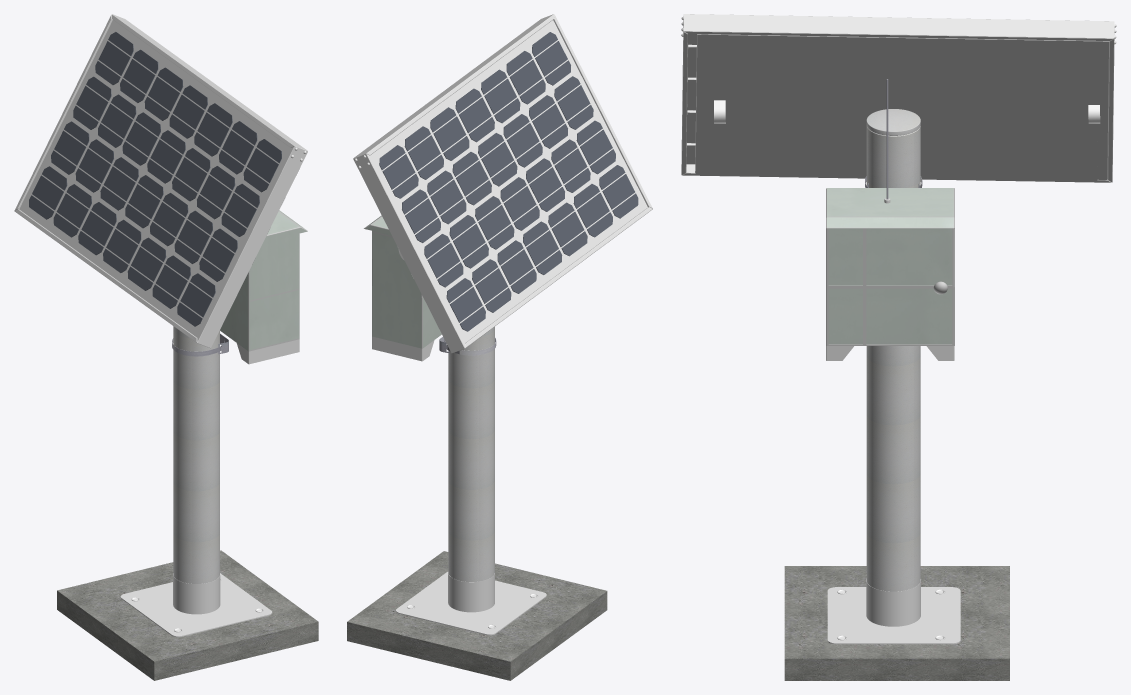
3 views of the same model, side by side, from view 1: azimuth 30°, elevation 25°; view 2: azimuth 150°, elevation 25°; view 3: azimuth 270°, elevation 25° (orthographic). The views are drawn at different scales.
Parts seen in each view (by area): view 1: archmodels74_009_040, archmodels74_009_039, Rectangle170, Circle023, archmodels74_009_038, Rectangle162, Rectangle171, Circle428, Rectangle163; view 2: archmodels74_009_040, archmodels74_009_039, Rectangle170, Circle023, archmodels74_009_038, Rectangle162, Rectangle171, Circle428, Rectangle163; view 3: object 20, Rectangle162, Rectangle170, Circle023, archmodels74_009_038, Rectangle171, Circle428, Circle027, archmodels74_009_039, Rectangle163.
Boxes of the visible parts, x1=… form: archmodels74_009_040: x1=29, y1=32, x2=281, y2=326; archmodels74_009_039: x1=19, y1=20, x2=290, y2=337; Rectangle170: x1=57, y1=550, x2=318, y2=680; Circle023: x1=173, y1=326, x2=219, y2=583; archmodels74_009_038: x1=14, y1=14, x2=307, y2=348; Rectangle162: x1=220, y1=210, x2=307, y2=351; Rectangle171: x1=120, y1=573, x2=272, y2=637; Circle428: x1=173, y1=573, x2=220, y2=614; Rectangle163: x1=236, y1=339, x2=299, y2=364; archmodels74_009_040: x1=379, y1=32, x2=638, y2=331; archmodels74_009_039: x1=370, y1=20, x2=647, y2=342; Rectangle170: x1=347, y1=551, x2=607, y2=680; Circle023: x1=448, y1=327, x2=494, y2=581; archmodels74_009_038: x1=353, y1=14, x2=652, y2=353; Rectangle162: x1=364, y1=215, x2=441, y2=348; Rectangle171: x1=396, y1=572, x2=546, y2=635; Circle428: x1=448, y1=572, x2=494, y2=612; Rectangle163: x1=372, y1=336, x2=434, y2=361; object 20: x1=695, y1=34, x2=1098, y2=182; Rectangle162: x1=826, y1=188, x2=954, y2=345; Rectangle170: x1=784, y1=566, x2=1009, y2=680; Circle023: x1=866, y1=126, x2=920, y2=591; archmodels74_009_038: x1=681, y1=14, x2=1116, y2=182; Rectangle171: x1=827, y1=587, x2=960, y2=644; Circle428: x1=866, y1=579, x2=920, y2=626; Circle027: x1=866, y1=109, x2=920, y2=135; archmodels74_009_039: x1=686, y1=34, x2=696, y2=164; Rectangle163: x1=826, y1=346, x2=954, y2=360.
Bounding box in the file's own units: 1.75 × 5.25 × 3.29.
12 materials, 7 textured.
